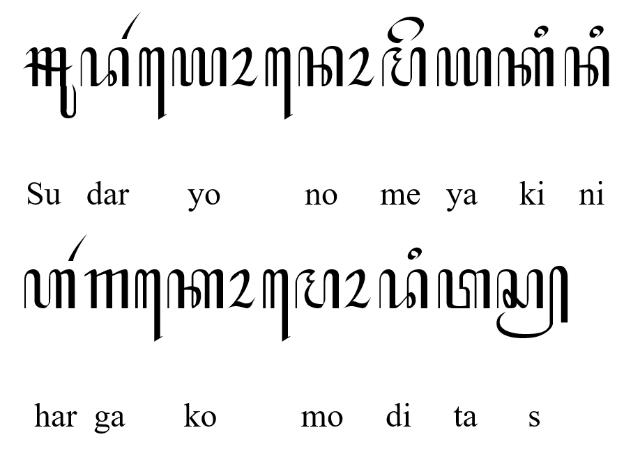-s: (496, 265, 568, 339)
Su: (23, 47, 77, 119)
_r1: (121, 11, 141, 39), (68, 234, 88, 262)
d: (80, 47, 130, 87), (378, 269, 428, 309)
e: (388, 16, 424, 44)
e1: (138, 47, 168, 121), (262, 268, 292, 342), (264, 48, 294, 121), (134, 269, 162, 343)
g: (84, 268, 130, 310)
h: (23, 270, 75, 310)
i: (588, 24, 604, 38), (534, 24, 548, 38), (408, 247, 422, 261)
k: (166, 268, 224, 310), (498, 46, 554, 88)
m: (295, 268, 339, 310), (382, 47, 426, 87)
n: (298, 45, 344, 87), (564, 46, 610, 88)
o: (227, 268, 256, 310), (347, 46, 375, 88), (230, 46, 258, 86), (344, 270, 372, 310)
t: (437, 268, 491, 310)
y: (170, 46, 228, 88), (436, 46, 492, 88)
